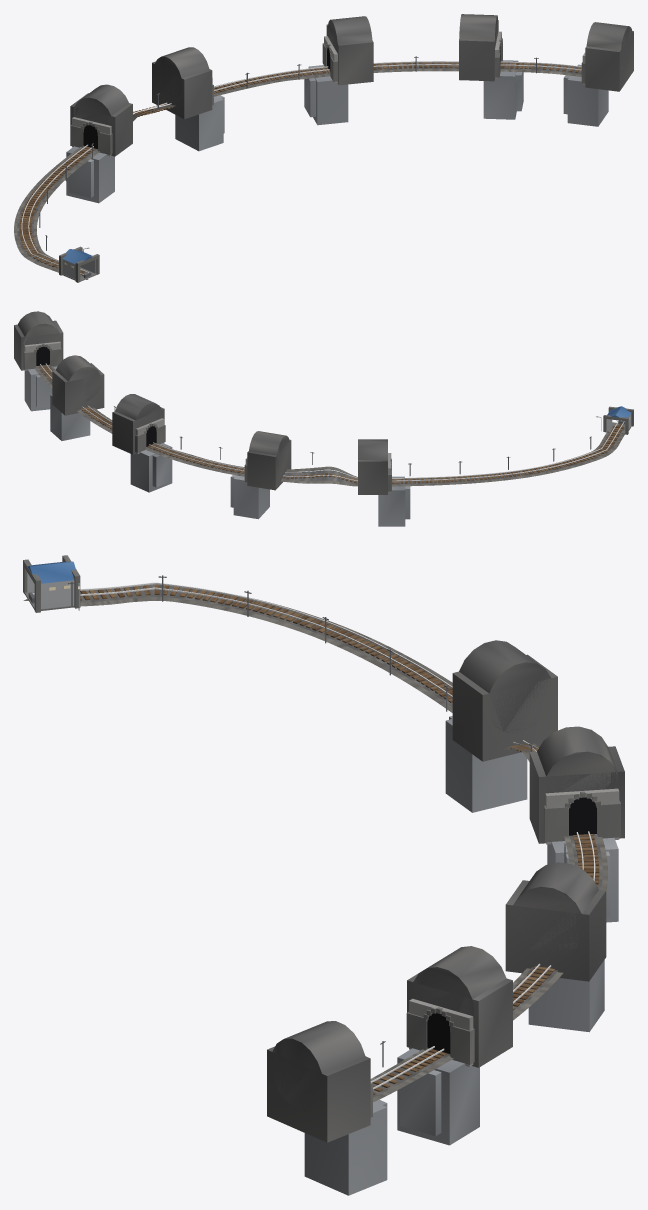
File: Rail_P2.fbx
The picture shows the model from 3 angles, top to bottom: view 1: azimuth 30°, elevation 25°; view 2: azimuth 150°, elevation 25°; view 3: azimuth 270°, elevation 25°; orthographic projection. The views are drawn at different scales.
Visible parts, largest first — view 1: Rail.PortalOut1, Rail.PortalIn1, Rail.PortalOut0, Rail.Portal, Rail.PortalIn0, Rail.Sleepers, Rail.Bed, Rail.Ballast, Rail.Shed, Rail.Rail.001, Rail.Rail; view 2: Rail.PortalOut0, Rail.PortalIn1, Rail.PortalIn0, Rail.Portal, Rail.PortalOut1, Rail.Sleepers, Rail.Bed, Rail.Ballast, Rail.Rail, Rail.Rail.001, Rail.Shed; view 3: Rail.PortalIn0, Rail.Portal, Rail.PortalOut1, Rail.PortalOut0, Rail.PortalIn1, Rail.Sleepers, Rail.Ballast, Rail.Bed, Rail.Shed, Rail.Rail, Rail.Rail.001.
Part boxes in pixels (<box>): Rail.PortalOut1: <box>66,84,132,203</box>; Rail.PortalIn1: <box>152,47,224,151</box>; Rail.PortalOut0: <box>304,16,373,125</box>; Rail.Portal: <box>563,22,633,126</box>; Rail.PortalIn0: <box>459,14,523,119</box>; Rail.Sleepers: <box>19,62,581,276</box>; Rail.Bed: <box>17,62,581,277</box>; Rail.Ballast: <box>14,69,581,279</box>; Rail.Shed: <box>59,246,99,282</box>; Rail.Rail.001: <box>28,64,581,272</box>; Rail.Rail: <box>21,61,581,275</box>; Rail.PortalOut0: <box>112,394,172,492</box>; Rail.PortalIn1: <box>230,431,291,519</box>; Rail.PortalIn0: <box>50,355,104,440</box>; Rail.Portal: <box>14,311,63,411</box>; Rail.PortalOut1: <box>358,439,410,526</box>; Rail.Sleepers: <box>39,365,623,483</box>; Rail.Bed: <box>37,365,624,484</box>; Rail.Ballast: <box>34,366,624,486</box>; Rail.Rail: <box>40,364,624,481</box>; Rail.Rail.001: <box>45,363,618,478</box>; Rail.Shed: <box>603,406,633,434</box>; Rail.PortalIn0: <box>397,946,512,1145</box>; Rail.Portal: <box>267,1021,387,1195</box>; Rail.PortalOut1: <box>445,640,557,812</box>; Rail.PortalOut0: <box>505,862,606,1032</box>; Rail.PortalIn1: <box>529,726,624,922</box>; Rail.Sleepers: <box>80,585,599,1095</box>; Rail.Ballast: <box>23,584,608,1102</box>; Rail.Bed: <box>29,585,602,1097</box>; Rail.Shed: <box>23,555,80,612</box>; Rail.Rail: <box>32,582,595,1089</box>; Rail.Rail.001: <box>80,587,583,1082</box>.
Bounding box in the file's own units: 38271 × 5437 × 17985.
